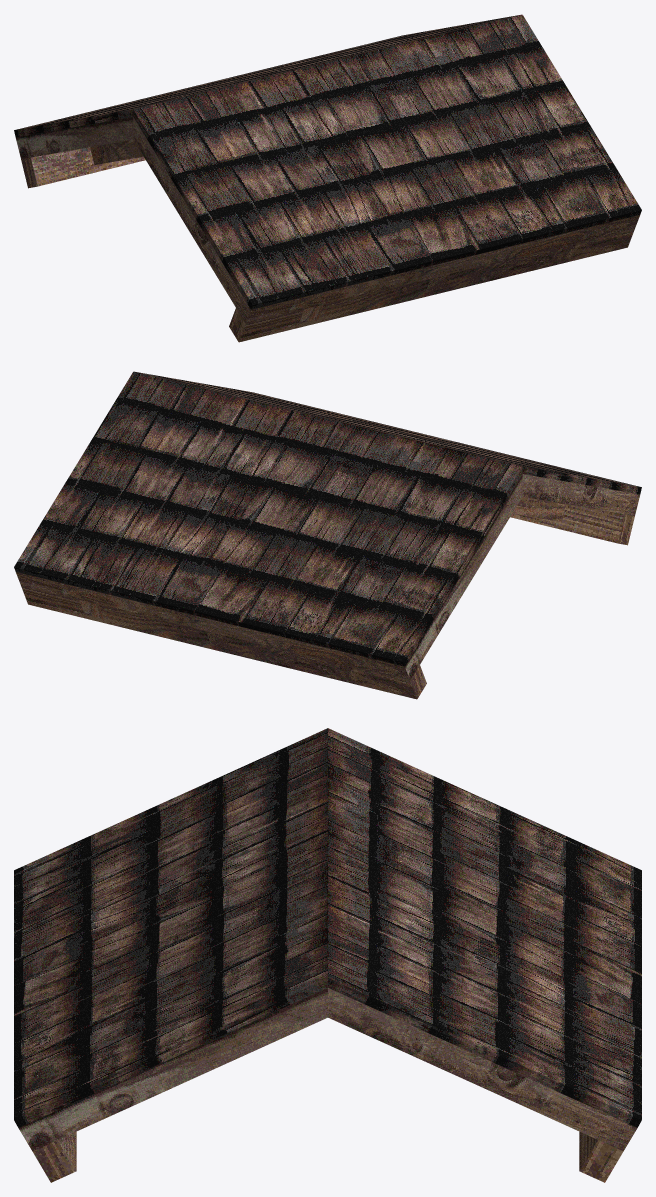
Rendered from roof-topM.glb.
3 renders of one model, top to bottom at view 1: azimuth 30°, elevation 25°; view 2: azimuth 150°, elevation 25°; view 3: azimuth 270°, elevation 25°, orthographic. The views are drawn at different scales.
Parts seen in each view (by area): view 1: roof-topM.001; view 2: roof-topM.001; view 3: roof-topM.001.
Part boxes in pixels (x1=…): roof-topM.001: x1=14, y1=14, x2=641, y2=342; roof-topM.001: x1=14, y1=371, x2=641, y2=699; roof-topM.001: x1=14, y1=728, x2=641, y2=1182.
Size of the model in its own units: 2 by 0.7658 by 2.13.
2 materials, 2 textured.
